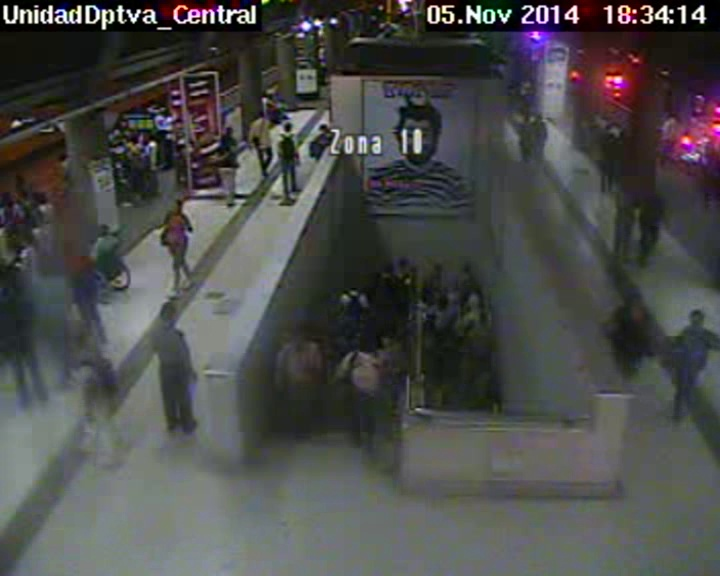person: (72, 331, 97, 353), (159, 303, 180, 324), (354, 331, 375, 352), (468, 291, 487, 310), (16, 227, 36, 245), (626, 291, 643, 311), (293, 326, 310, 343), (31, 190, 48, 207), (66, 235, 83, 252), (689, 309, 705, 326), (343, 278, 360, 294), (460, 261, 477, 276), (95, 223, 110, 239), (430, 262, 446, 277), (647, 182, 662, 198), (396, 257, 410, 273), (620, 178, 634, 194), (2, 189, 16, 205), (438, 296, 451, 311), (172, 199, 184, 211), (282, 122, 293, 134), (610, 120, 621, 132), (318, 123, 329, 133), (117, 134, 127, 145), (535, 114, 545, 125), (225, 126, 233, 137), (156, 110, 164, 119), (256, 110, 264, 118), (524, 115, 532, 123), (264, 90, 272, 98), (126, 140, 134, 148), (148, 134, 156, 141), (271, 84, 279, 91), (318, 48, 326, 55)
